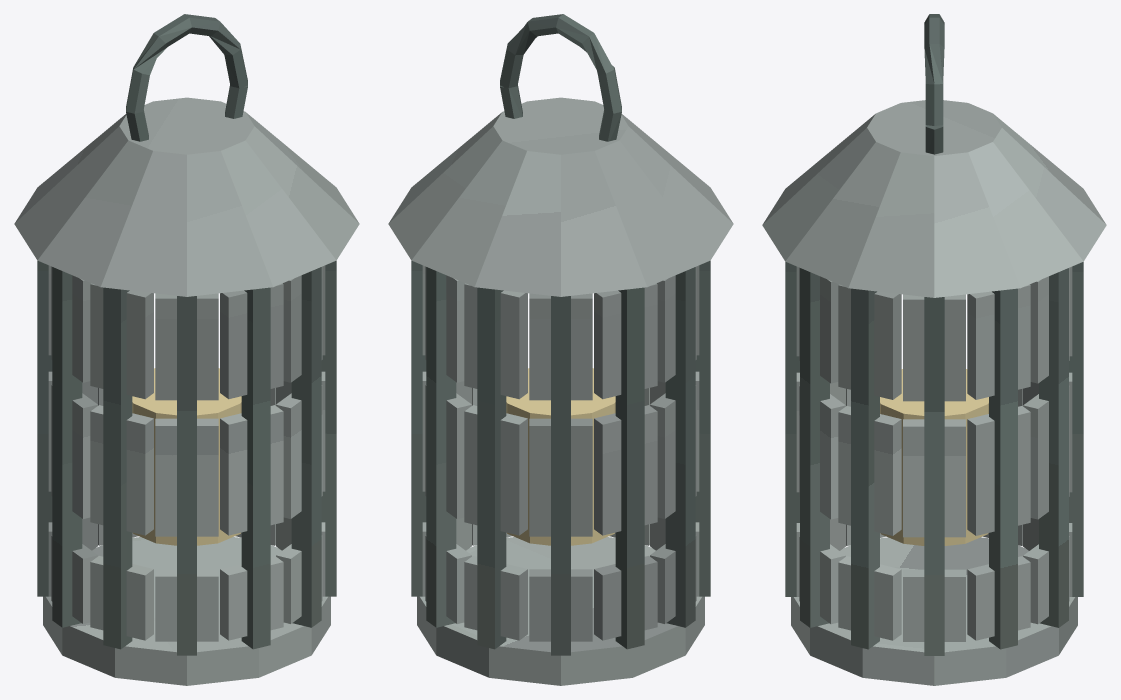
The model's file is tin-lantern.glb.
3 renders of one model, left to right at view 1: azimuth 30°, elevation 25°; view 2: azimuth 150°, elevation 25°; view 3: azimuth 270°, elevation 25°, orthographic.
Visible parts, largest first — view 1: tin-lantern/roof, tin-lantern/bottom, tin-lantern/upright-6, tin-lantern/upright-8, tin-lantern/upright-5, tin-lantern/upright-9, tin-lantern/upright-7, tin-lantern/wall-7-0.155, tin-lantern/handle, tin-lantern/wall-6-0.155, tin-lantern/wall-8-0.155, tin-lantern/wall-7-0.256 (+14 smaller); view 2: tin-lantern/roof, tin-lantern/bottom, tin-lantern/upright-0, tin-lantern/upright-10, tin-lantern/upright-1, tin-lantern/upright-9, tin-lantern/upright-11, tin-lantern/wall-11-0.155, tin-lantern/wall-0-0.155, tin-lantern/wall-10-0.155, tin-lantern/handle, tin-lantern/wall-11-0.256 (+14 smaller); view 3: tin-lantern/roof, tin-lantern/bottom, tin-lantern/upright-2, tin-lantern/upright-4, tin-lantern/upright-1, tin-lantern/upright-5, tin-lantern/upright-3, tin-lantern/wall-3-0.155, tin-lantern/wall-2-0.155, tin-lantern/wall-4-0.155, tin-lantern/wall-3-0.256, tin-lantern/wall-2-0.256 (+14 smaller).
Part boxes in pixels (<box>): tin-lantern/roof: <box>14,97,359,296</box>; tin-lantern/bottom: <box>43,537,330,685</box>; tin-lantern/upright-6: <box>241,287,270,649</box>; tin-lantern/upright-8: <box>103,287,132,649</box>; tin-lantern/upright-5: <box>291,267,321,627</box>; tin-lantern/upright-9: <box>52,267,82,627</box>; tin-lantern/upright-7: <box>177,296,196,655</box>; tin-lantern/wall-7-0.155: <box>155,418,218,536</box>; tin-lantern/handle: <box>126,14,247,141</box>; tin-lantern/wall-6-0.155: <box>220,405,283,535</box>; tin-lantern/wall-8-0.155: <box>90,405,153,535</box>; tin-lantern/wall-7-0.256: <box>155,293,218,400</box>; tin-lantern/roof: <box>388,97,733,296</box>; tin-lantern/bottom: <box>417,537,704,685</box>; tin-lantern/upright-0: <box>477,287,506,649</box>; tin-lantern/upright-10: <box>615,287,644,649</box>; tin-lantern/upright-1: <box>426,267,456,627</box>; tin-lantern/upright-9: <box>665,267,695,627</box>; tin-lantern/upright-11: <box>551,296,570,655</box>; tin-lantern/wall-11-0.155: <box>529,418,592,536</box>; tin-lantern/wall-0-0.155: <box>464,405,527,535</box>; tin-lantern/wall-10-0.155: <box>594,405,657,535</box>; tin-lantern/handle: <box>500,14,621,141</box>; tin-lantern/wall-11-0.256: <box>529,293,592,400</box>; tin-lantern/roof: <box>762,100,1106,297</box>; tin-lantern/bottom: <box>791,537,1077,685</box>; tin-lantern/upright-2: <box>989,288,1017,649</box>; tin-lantern/upright-4: <box>851,288,879,649</box>; tin-lantern/upright-1: <box>1039,268,1068,627</box>; tin-lantern/upright-5: <box>800,268,829,627</box>; tin-lantern/upright-3: <box>924,297,944,655</box>; tin-lantern/wall-3-0.155: <box>903,419,965,537</box>; tin-lantern/wall-2-0.155: <box>967,406,1030,535</box>; tin-lantern/wall-4-0.155: <box>838,406,901,535</box>; tin-lantern/wall-3-0.256: <box>903,294,965,401</box>; tin-lantern/wall-2-0.256: <box>967,284,1030,399</box>.
Size of the model in its own units: 0.24 by 0.4671 by 0.24.
3 materials, 3 textured.
